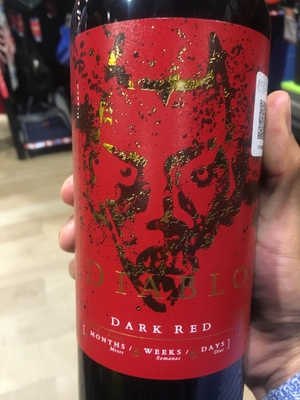diablo dark red: (63, 16, 274, 400)
